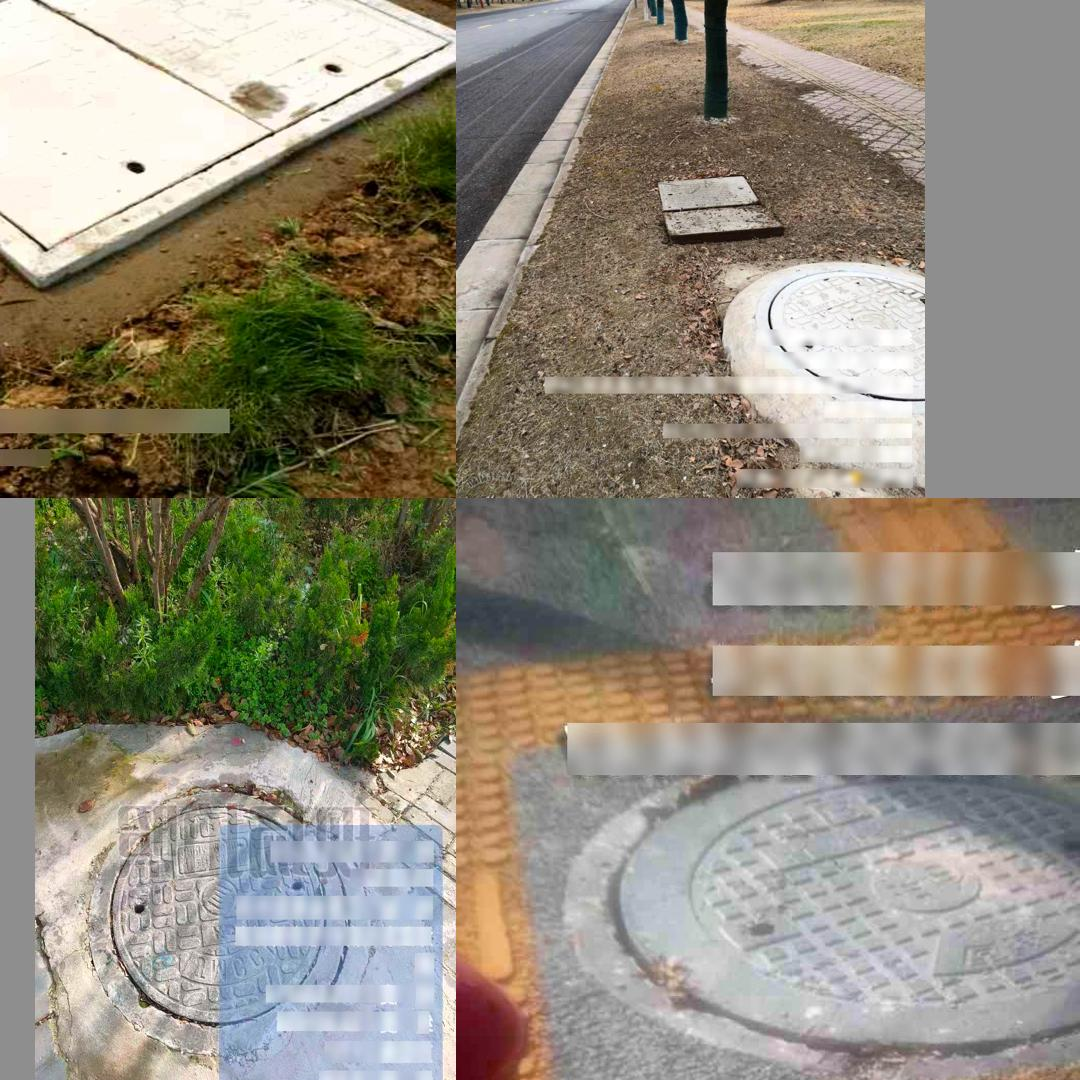good: (612, 757, 1080, 1047), (0, 0, 456, 291), (87, 792, 347, 1058), (760, 269, 924, 404)
uncovered: (656, 174, 783, 241)
